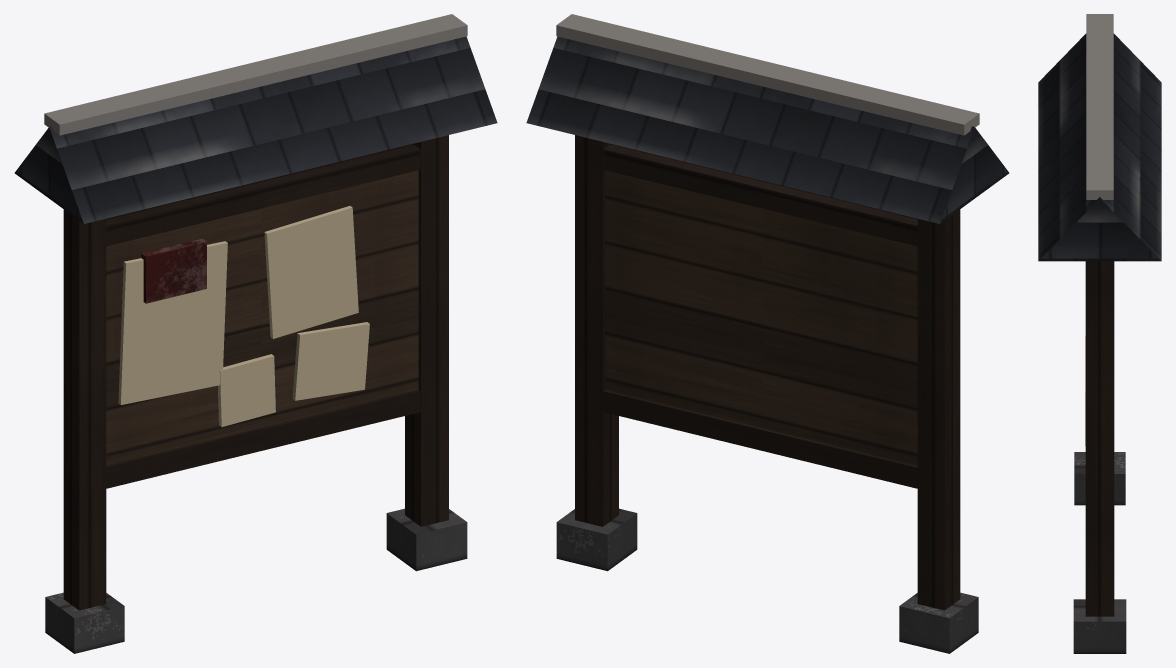
File: PlazaTablon.gltf
3 views of the same model, side by side, from view 1: azimuth 30°, elevation 25°; view 2: azimuth 150°, elevation 25°; view 3: azimuth 270°, elevation 25° (orthographic). The views are drawn at different scales.
Parts seen in each view (by area): view 1: PlazaTablon; view 2: PlazaTablon; view 3: PlazaTablon.
Part boxes in pixels (left/top/right/bottom): PlazaTablon: left=14, top=14, right=497, bottom=653; PlazaTablon: left=526, top=14, right=1009, bottom=653; PlazaTablon: left=1038, top=14, right=1161, bottom=653.
Bounding box in the file's own units: 2.54 × 3.09 × 0.74.
Materials: 7 (5 with a texture image).
